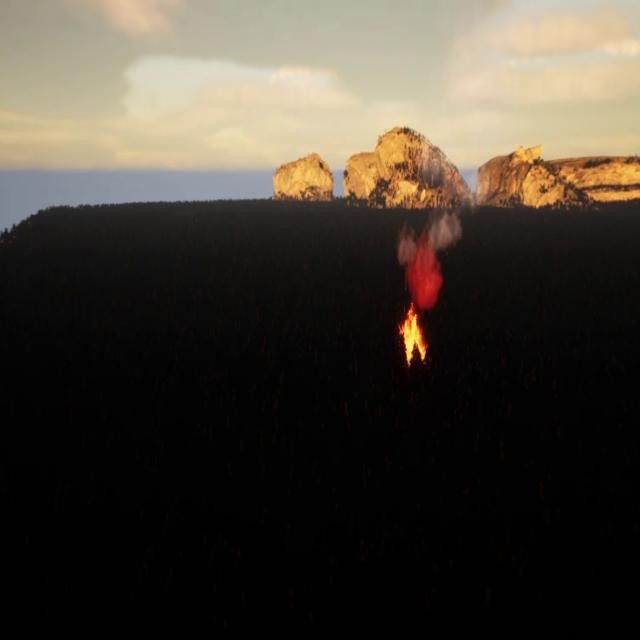fire: (399, 308, 428, 361)
smoke: (399, 188, 462, 303)
